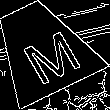M_NW: (7, 16, 77, 81)
